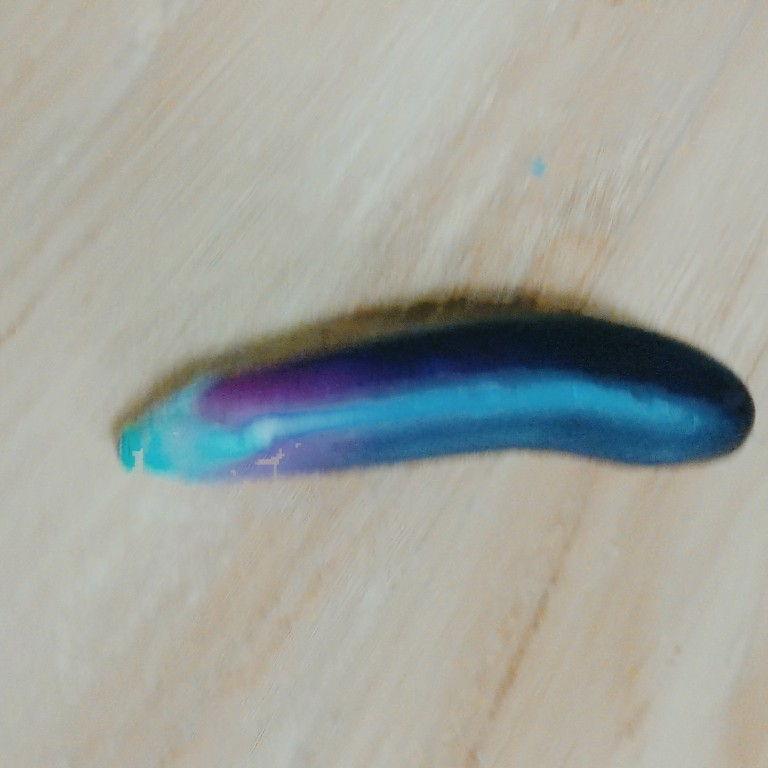fruit_eggplant: (111, 302, 762, 491)
